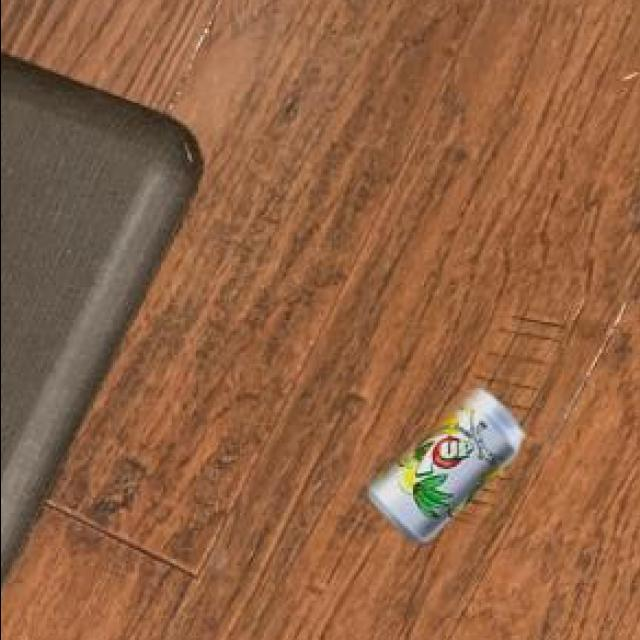logam: (363, 391, 523, 547)
